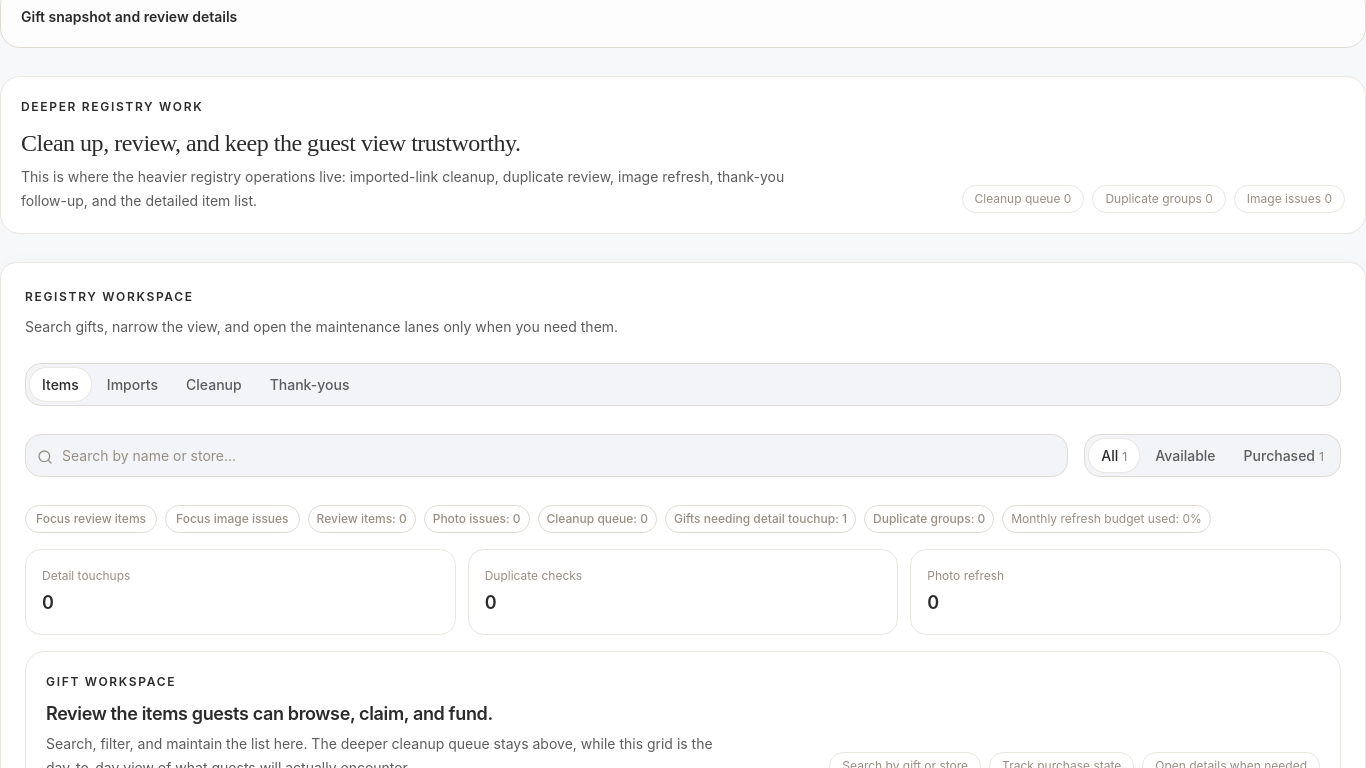
RegistryDashboardRouteContent › shows saved import runs and lets owners drill into the selected batch
The width and height of the screenshot is (1366, 768).
(page scrolled)
Click the button "Imports": point(132, 384) [95, 368, 170, 401]
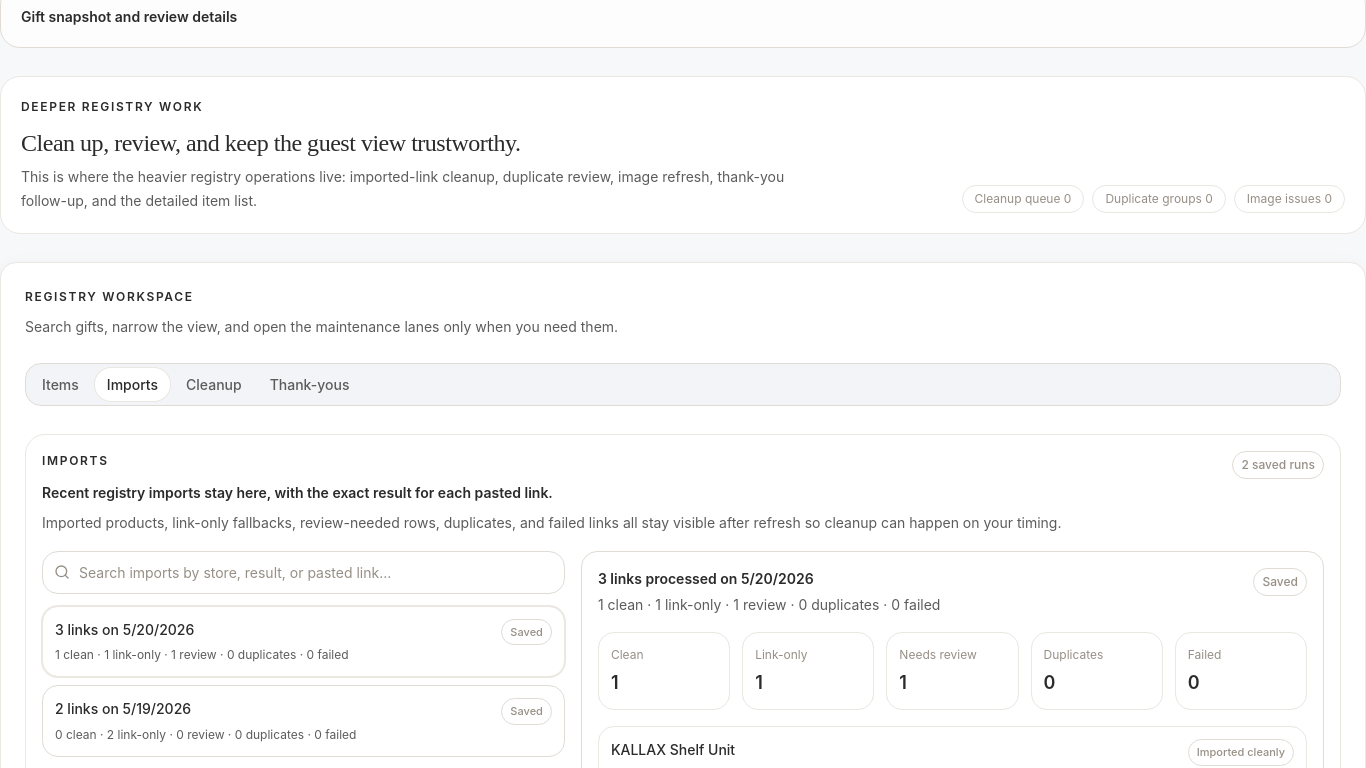
Expected: the text "Recent registry imports stay here, with the exact result for each pasted link." is shown, [42, 484, 553, 501]
Expected: the text "KALLAX Shelf Unit" is shown, [611, 741, 735, 758]
Click the button "2 links on": point(93, 709) [42, 685, 565, 757]
(page scrolled)
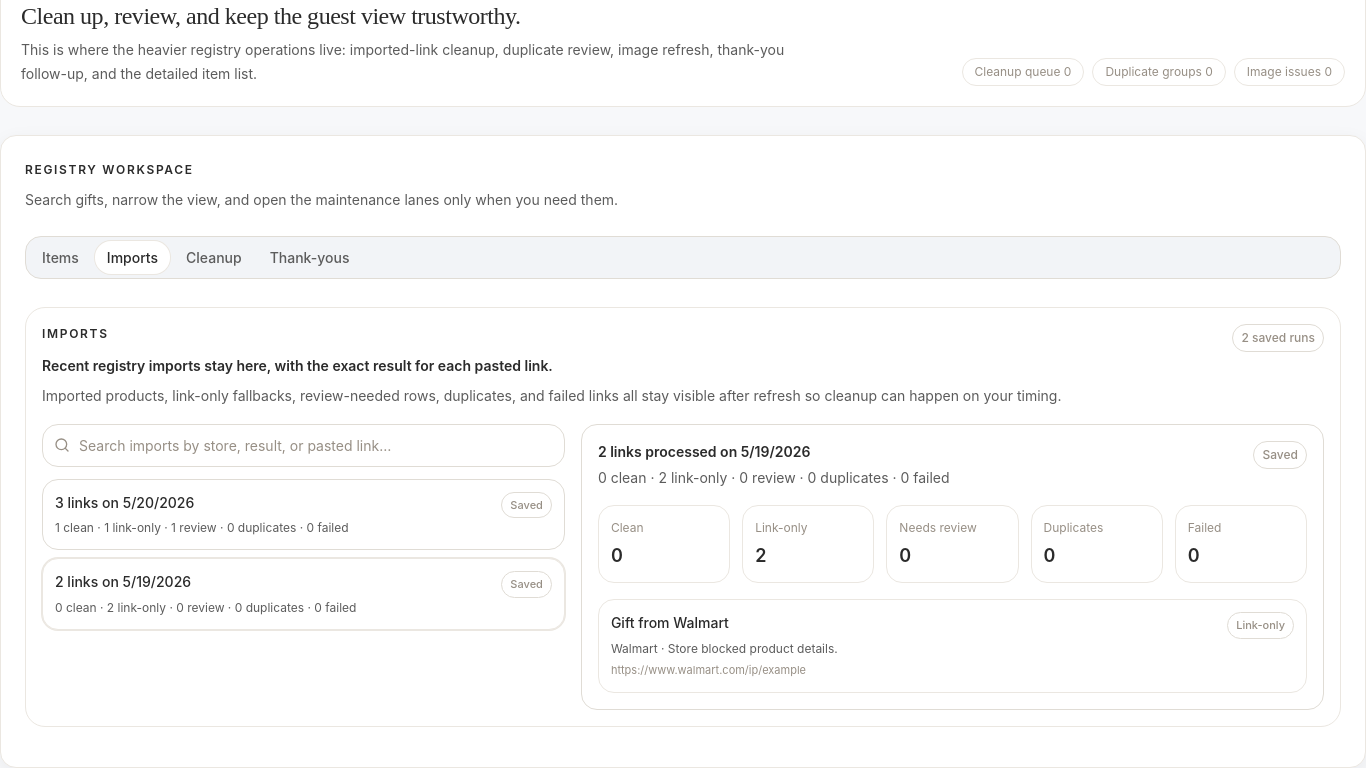
Expected: the text "Gift from Walmart" is shown, [611, 614, 729, 631]
